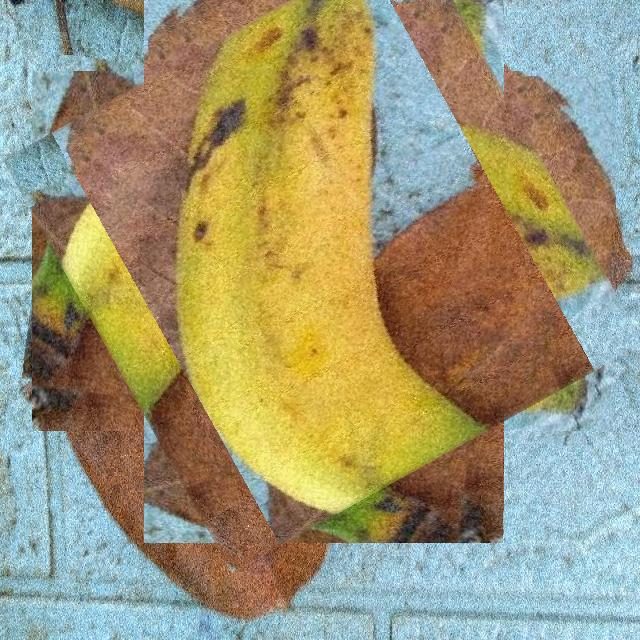Muito Madura: (45, 0, 602, 529)
